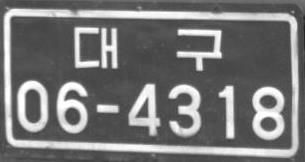0: (16, 79, 49, 133)
1: (211, 85, 245, 139)
3: (168, 83, 201, 138)
4: (127, 83, 161, 136)
6: (55, 79, 88, 134)
8: (251, 85, 285, 141)
대구_D: (74, 26, 223, 72)
